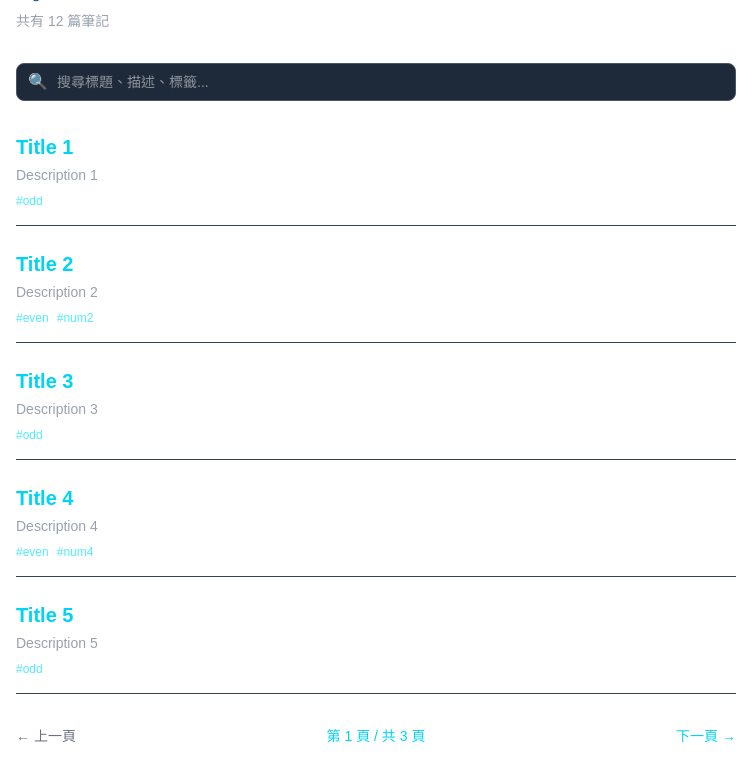
Test: SearchNotes 組件整合測試 › 點擊「下一頁」顯示第 2 頁項目並更新分頁狀態
The width and height of the screenshot is (753, 763).
(page scrolled)
Step 1. Click the button "下一頁 →" → click(706, 736), box top-left (676, 726), bottom-right (736, 746)
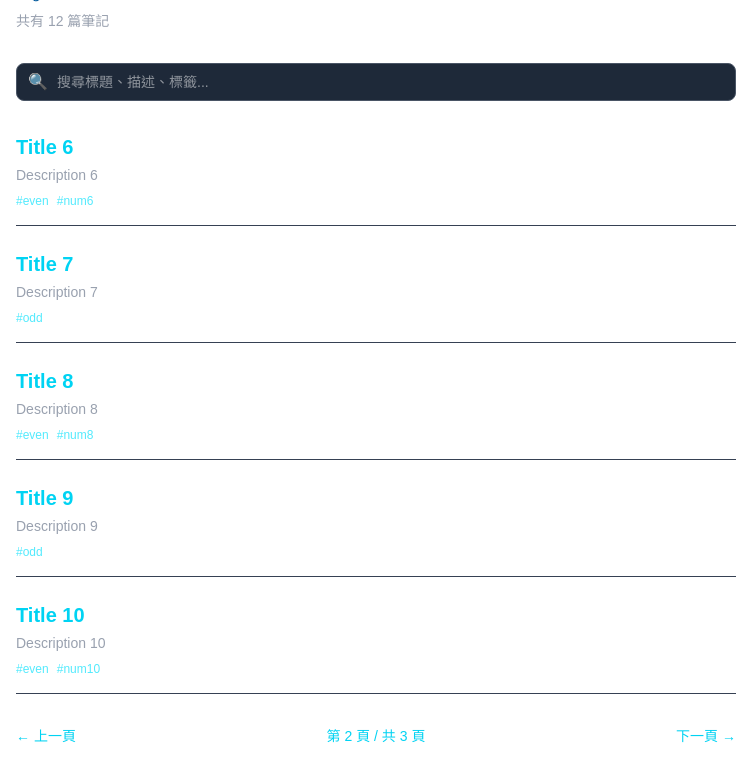
Check: the heading "Title 6" is shown, box top-left (16, 136), bottom-right (73, 158)
Check: the button "← 上一頁" is enabled, box top-left (16, 726), bottom-right (76, 746)
Check: the text "第 2 頁 / 共 3 頁" is shown, box top-left (327, 726), bottom-right (425, 746)
